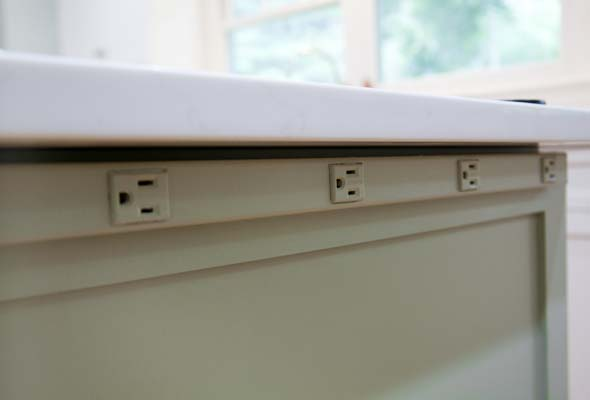outlet: (115, 176, 160, 219), (334, 165, 360, 200), (460, 160, 479, 188), (542, 156, 559, 181)
